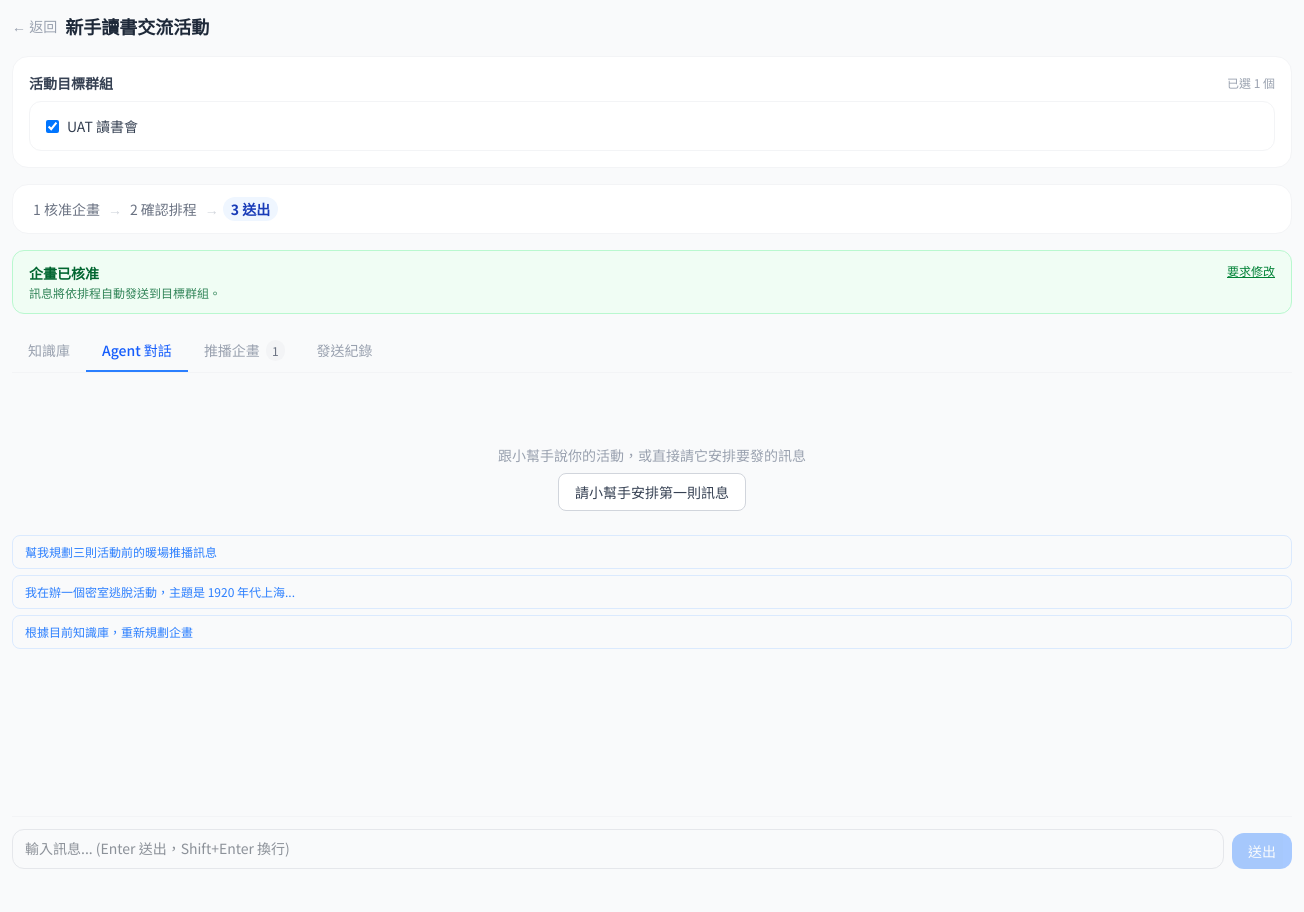
Test: Activity detail — one primary action › keeps 送出 primary across a reload after confirmation, and returns to 重新核准 if revision is requested
Expected: the heading "新手讀書交流活動" is shown, [65,12,209,40]
Click the button "要求修改" at {"x": 1251, "y": 271}, box [1227,263,1275,279]
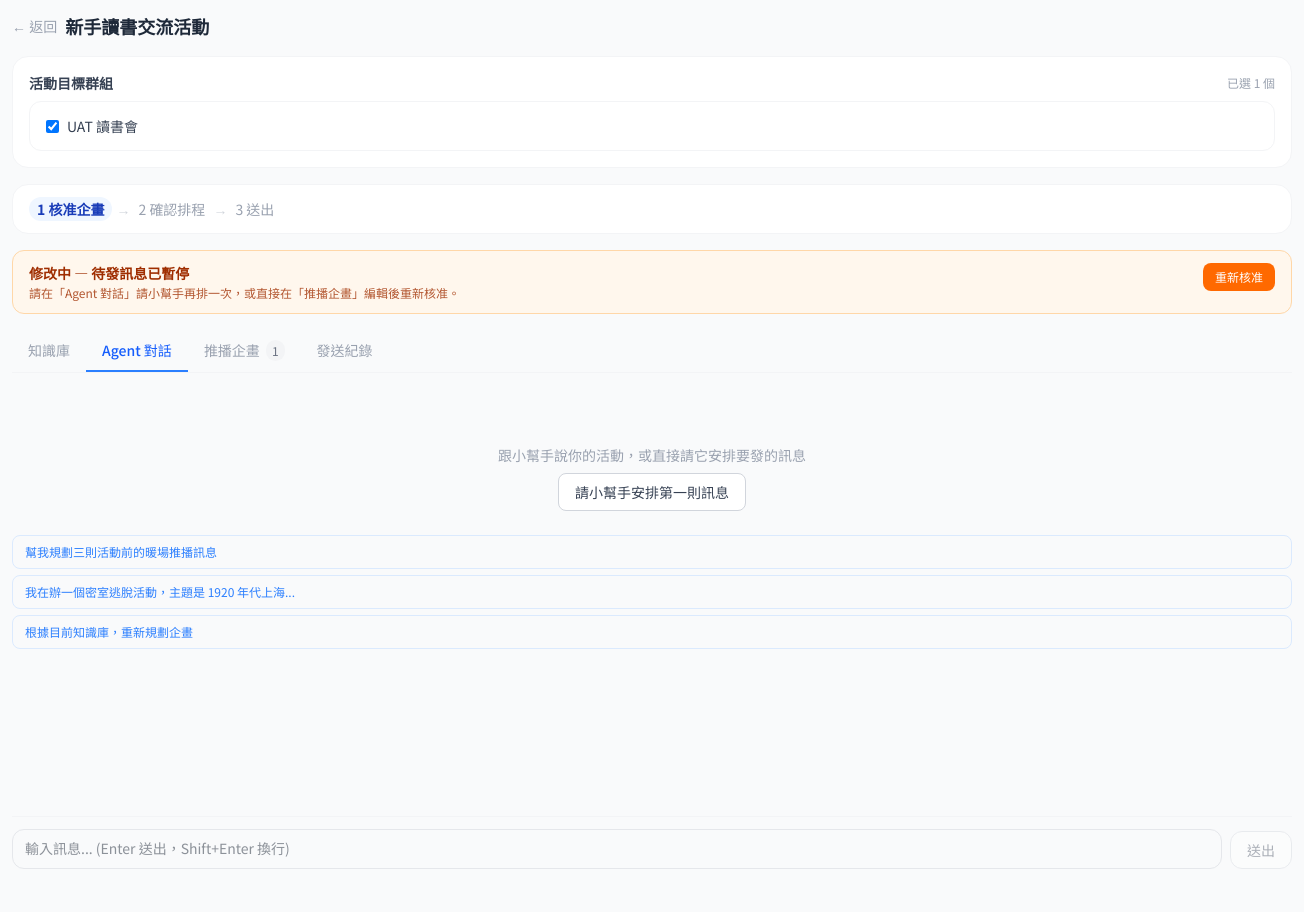
Expected: the button "重新核准" is shown, [1203,263,1275,291]
